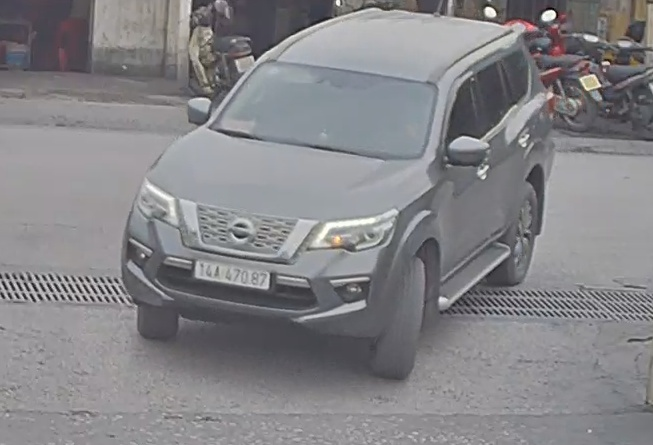vehicle plate: (189, 257, 270, 293)
